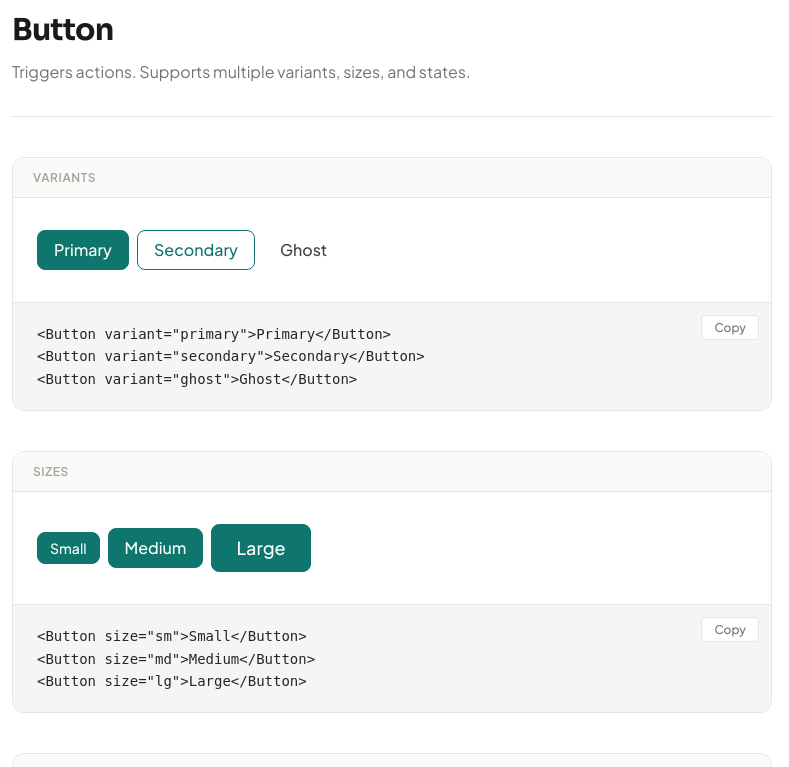
ComponentPage › copies code to clipboard when the copy button is clicked
Click the button with aria-label "copy code" at (730, 328), box [701,315,759,340]
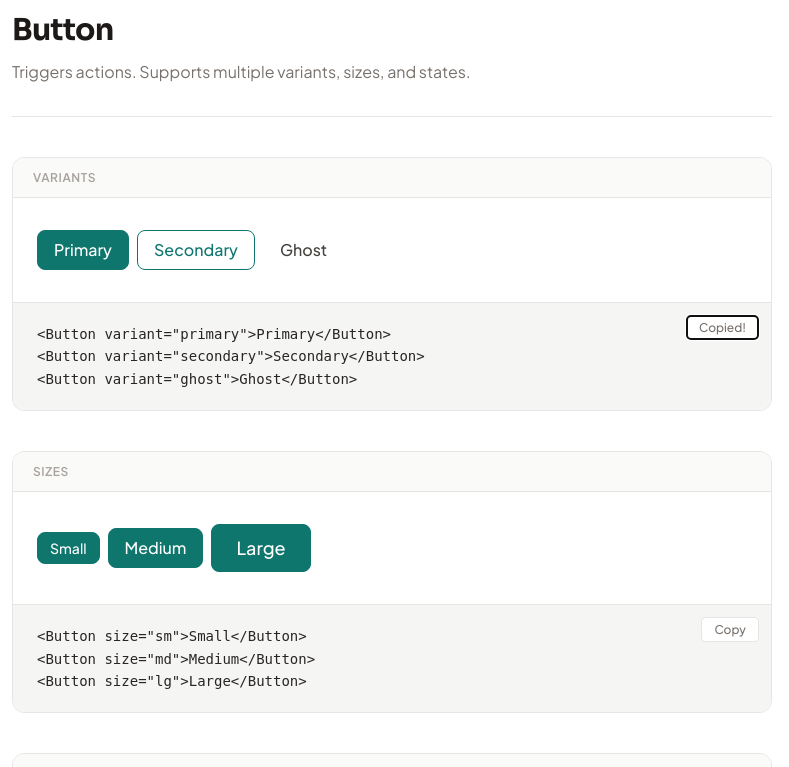
Result: the button "Copied!" is shown at [686,315,759,340]
